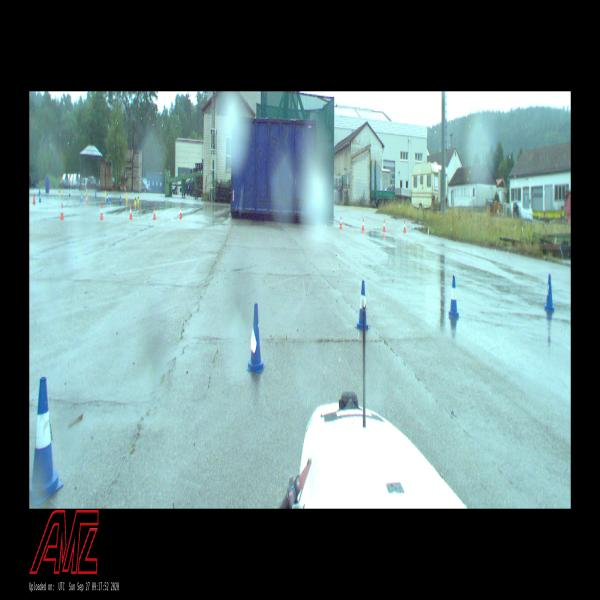blue_cone: (30, 378, 62, 503), (247, 304, 265, 372), (355, 281, 369, 330), (448, 275, 459, 318), (544, 275, 555, 312), (107, 193, 108, 202)
orange_cone: (60, 203, 64, 219), (129, 206, 133, 218), (100, 204, 103, 219), (153, 207, 156, 220), (179, 206, 182, 218), (403, 220, 406, 232), (340, 216, 342, 229), (362, 219, 364, 230), (383, 220, 385, 231)
yellow_cone: (134, 194, 137, 204)
